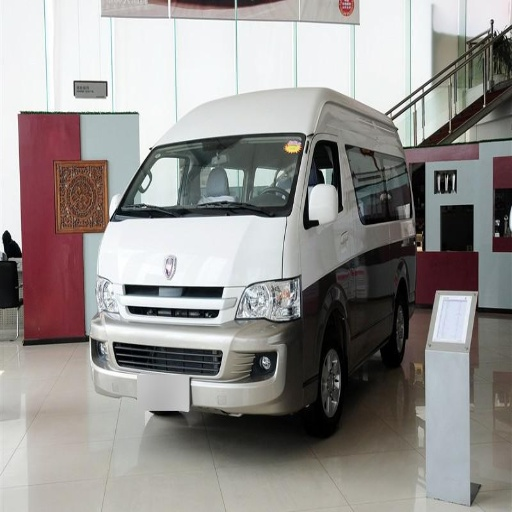front_bumper: (88, 279, 323, 414)
front_glass: (113, 134, 302, 218)
front_left_door: (303, 132, 376, 344)
